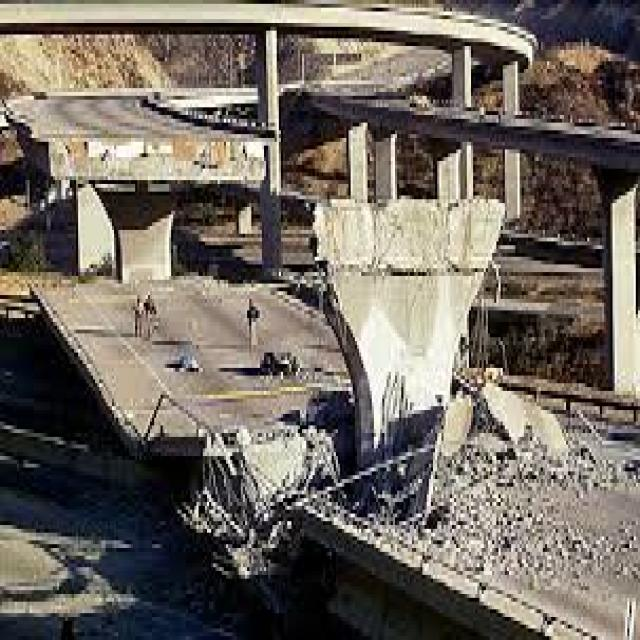bridge collapse: (17, 142, 549, 640)
